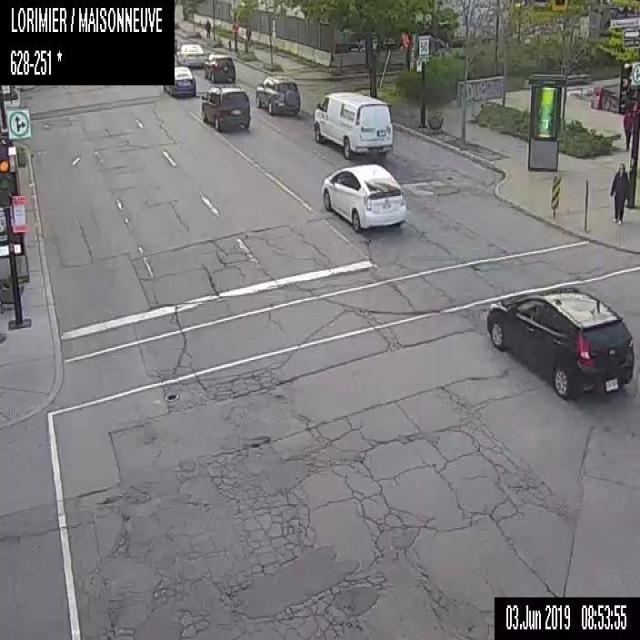pedestrian: (608, 161, 627, 223), (622, 113, 632, 150), (204, 17, 210, 37)
vehicle: (484, 287, 634, 401), (321, 162, 407, 234), (312, 91, 392, 160), (200, 84, 250, 129), (255, 74, 301, 116), (162, 65, 195, 96), (203, 52, 235, 82), (175, 42, 206, 68)
